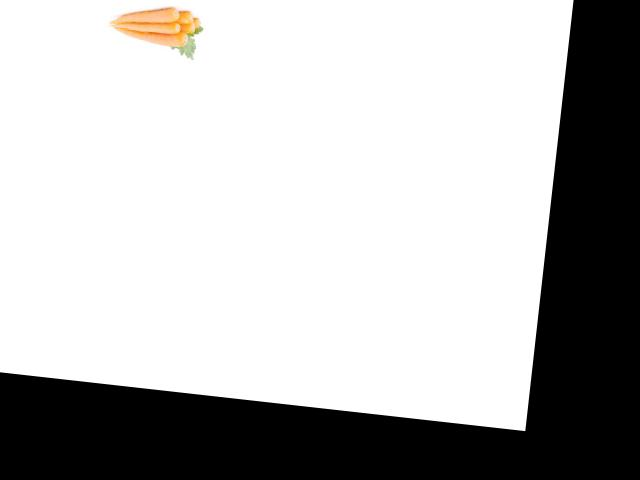carrot: (190, 16, 204, 29)
